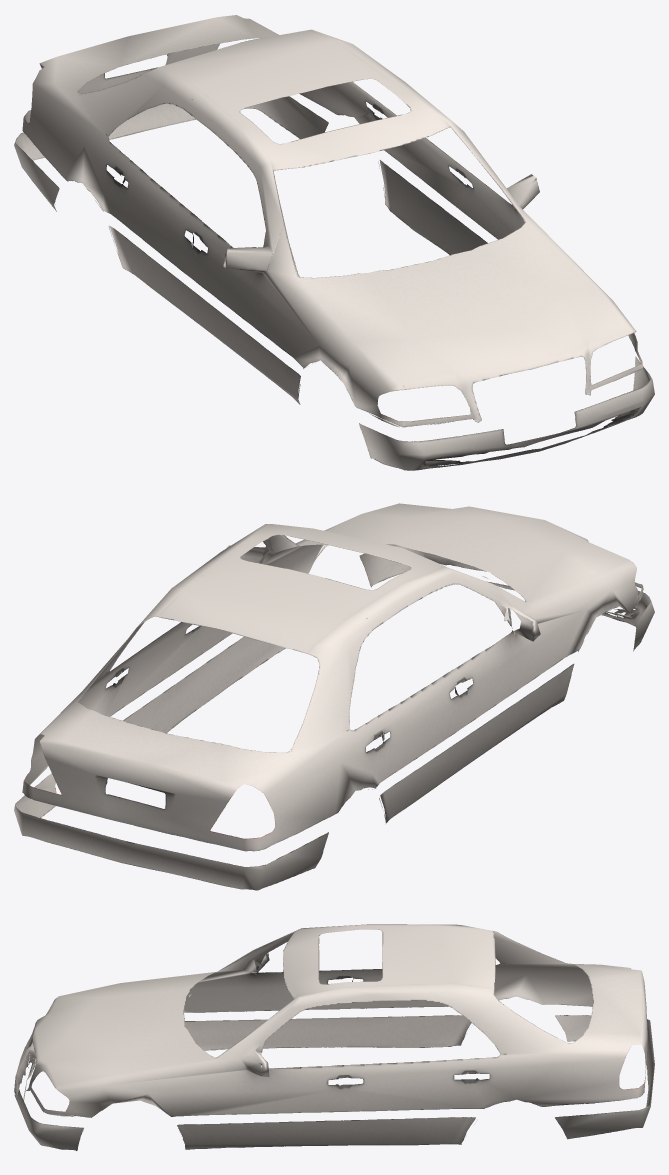
The model's file is mobile_car_0006.fbx.
The picture shows the model from 3 angles, top to bottom: view 1: azimuth 30°, elevation 25°; view 2: azimuth 150°, elevation 25°; view 3: azimuth 270°, elevation 25°; orthographic projection. The views are drawn at different scales.
Parts seen in each view (by area): view 1: Mesh; view 2: Mesh; view 3: Mesh.
Part boxes in pixels (bbox=[...]): Mesh: bbox=[14, 15, 654, 470]; Mesh: bbox=[14, 503, 654, 890]; Mesh: bbox=[14, 924, 654, 1150].
Bounding box in the file's own units: 206 × 129 × 469.
